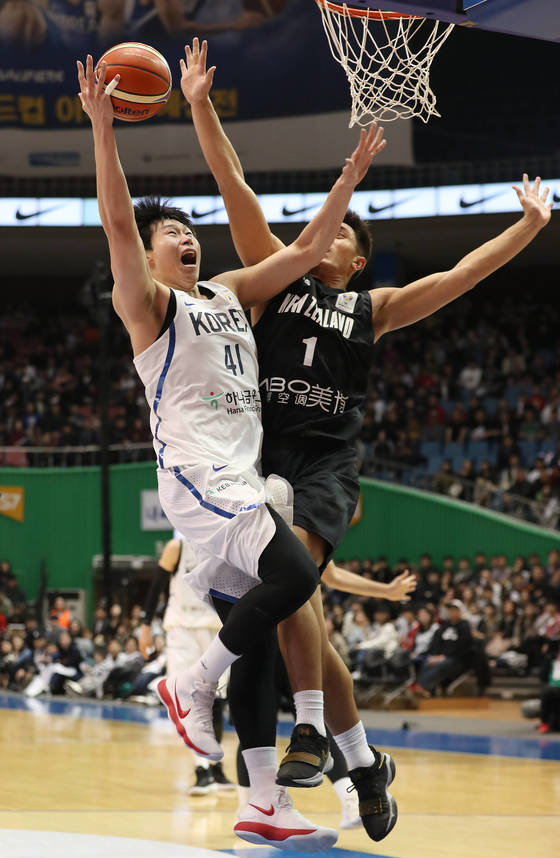ball: (85, 29, 184, 132)
defense: (177, 35, 517, 849)
shoot: (47, 24, 333, 851)
